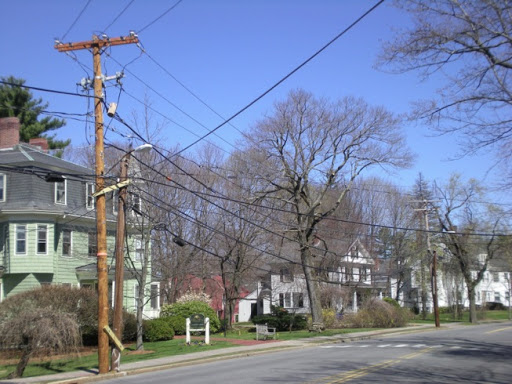utility_pole: (44, 23, 148, 113)
